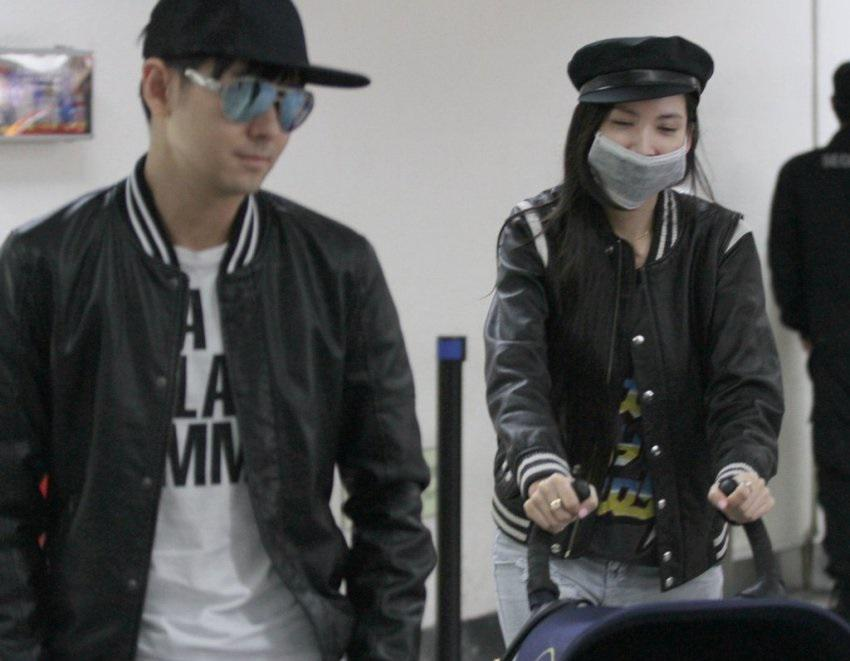NONE: (184, 71, 303, 190)
WRONG: (595, 104, 690, 207)
